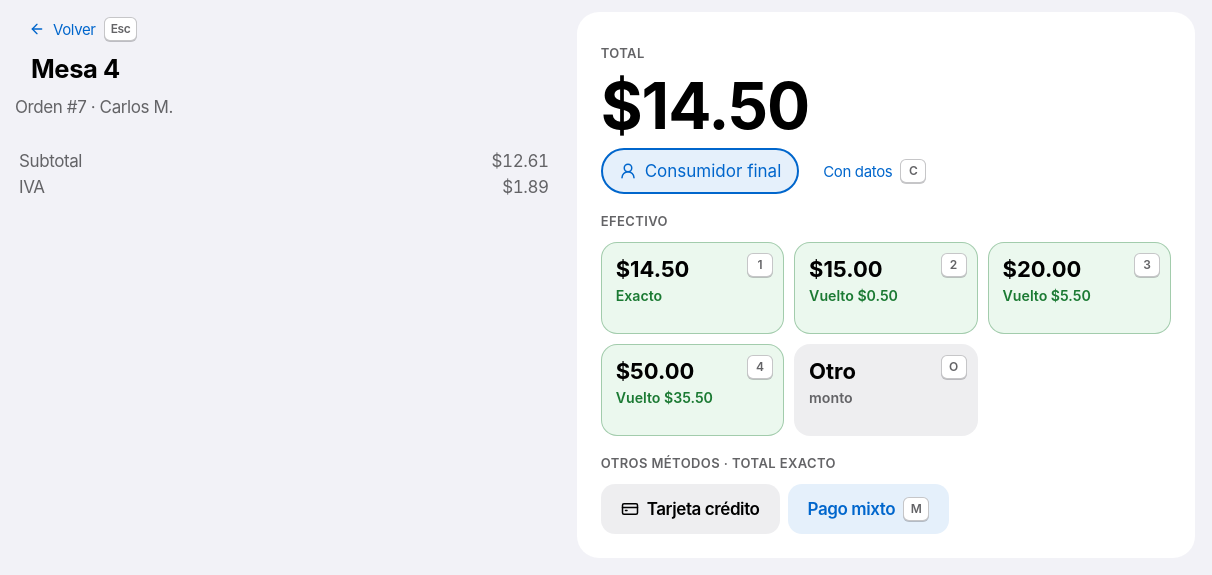
Test: pantalla de cobro › un toque en $20 cobra en efectivo y muestra el vuelto
This screenshot has width=1212, height=575.
Expected: the button with test id "billete-50.00" is shown, [601,344,784,436]
Expected: the text with test id "total" reads "$14.50", [601,67,809,144]
Click the button with test id "billete-20.00".
click(1079, 288)  # box [988,242,1171,334]
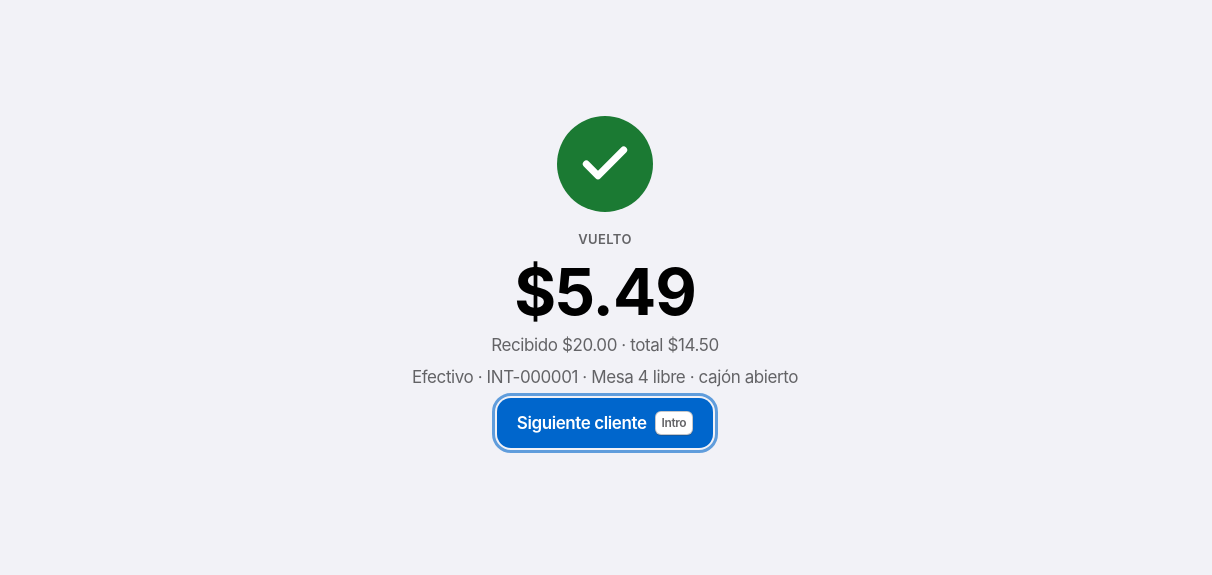
Result: the text "Efectivo · INT-000001 · Mesa 4 libre · cajón abierto" is shown at [412,366,798,388]
